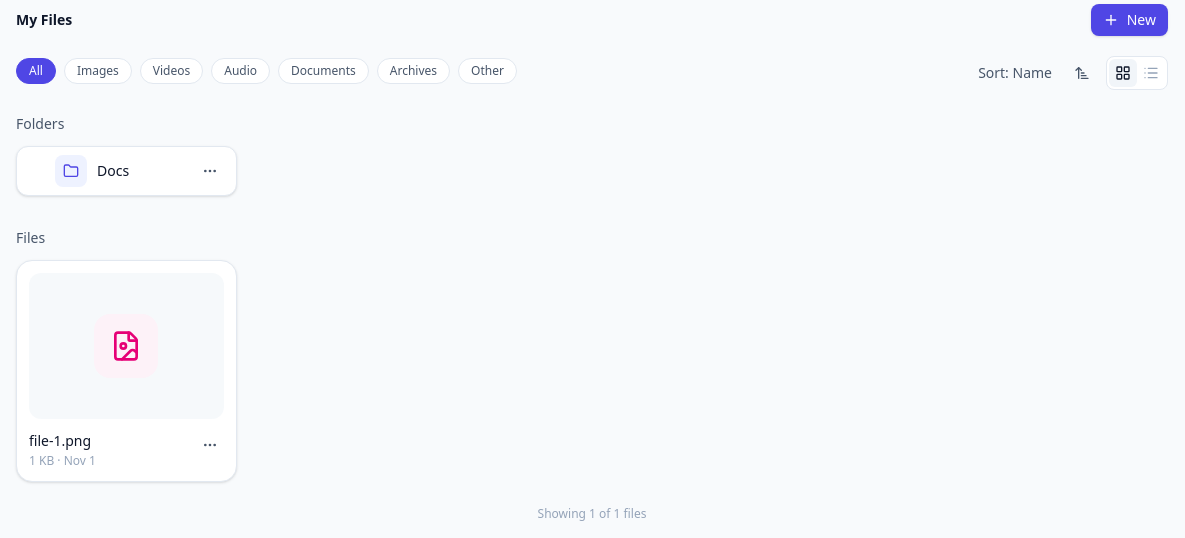
Test: sort, filter and view › switches to list view and remembers it
The width and height of the screenshot is (1185, 538).
Check: the button "file-1.png" is shown, box [29,431,91,451]
Click the button named "List view".
click(1151, 73)  # box [1137,59,1165,87]
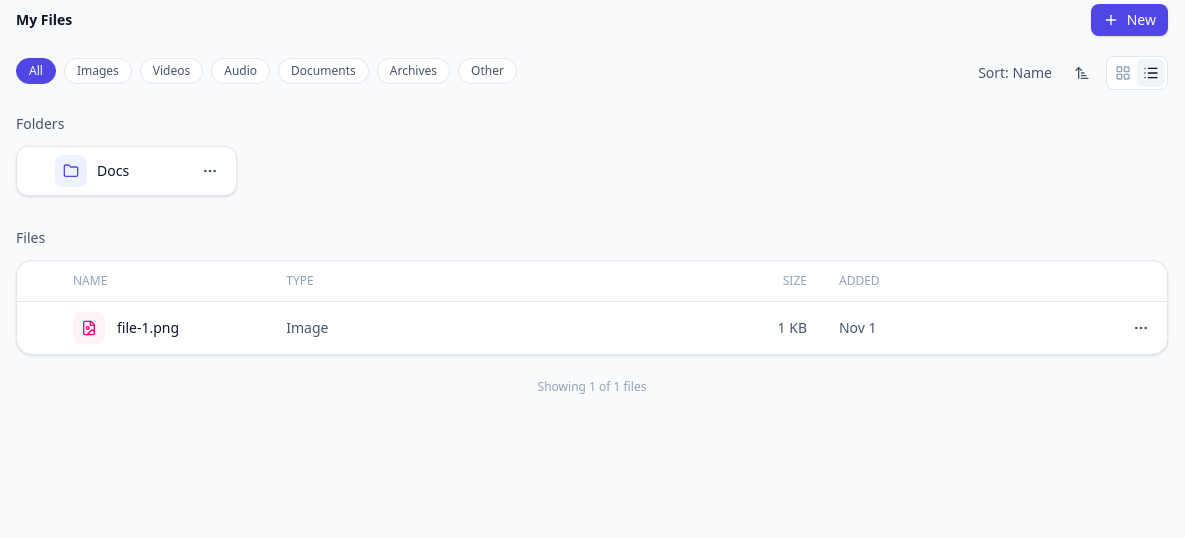
Check: the cell "1 KB" is shown, box [573,302,823,354]
Check: the table is shown, box [17,261,1167,354]
